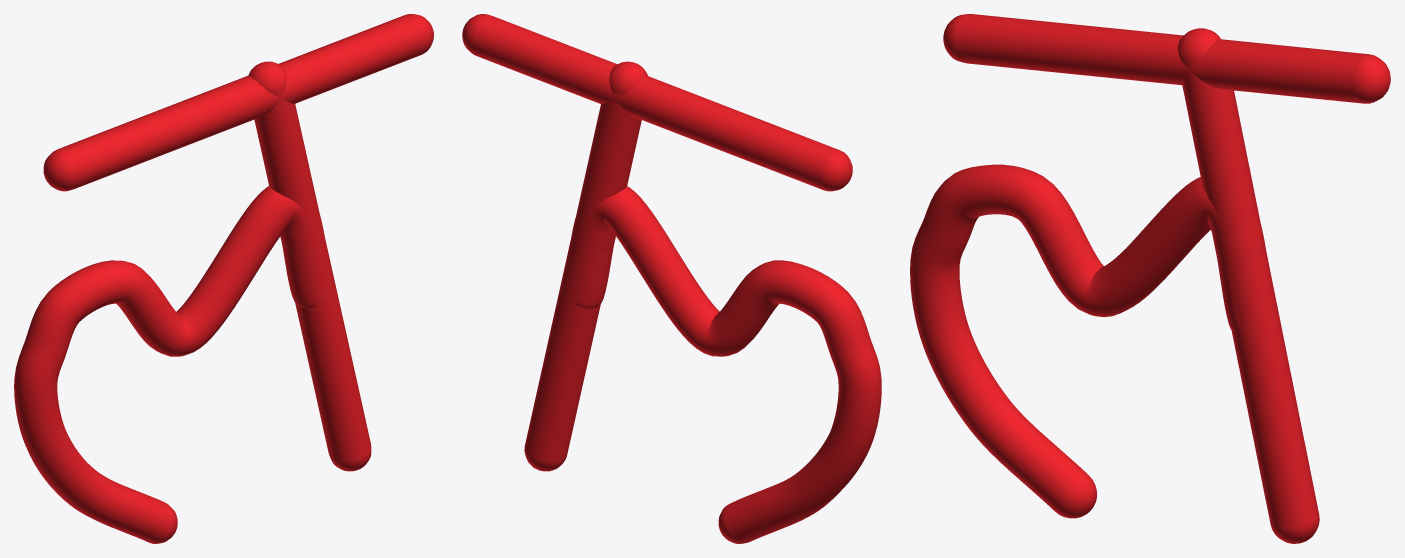
Rendered from hindi_la.fbx.
3 views of the same model, side by side, from view 1: azimuth 30°, elevation 25°; view 2: azimuth 150°, elevation 25°; view 3: azimuth 330°, elevation 25° (orthographic). The views are drawn at different scales.
Visible parts, largest first — view 1: node_id94 (×3); view 2: node_id94 (×3); view 3: node_id94 (×3).
Part boxes in pixels (x1,y1,x2,y2): node_id94 (×3): (14,14,433,543); node_id94 (×3): (462,14,881,543); node_id94 (×3): (910,14,1390,543).
Size of the model in its own units: 0.658 by 0.7041 by 0.0593.
